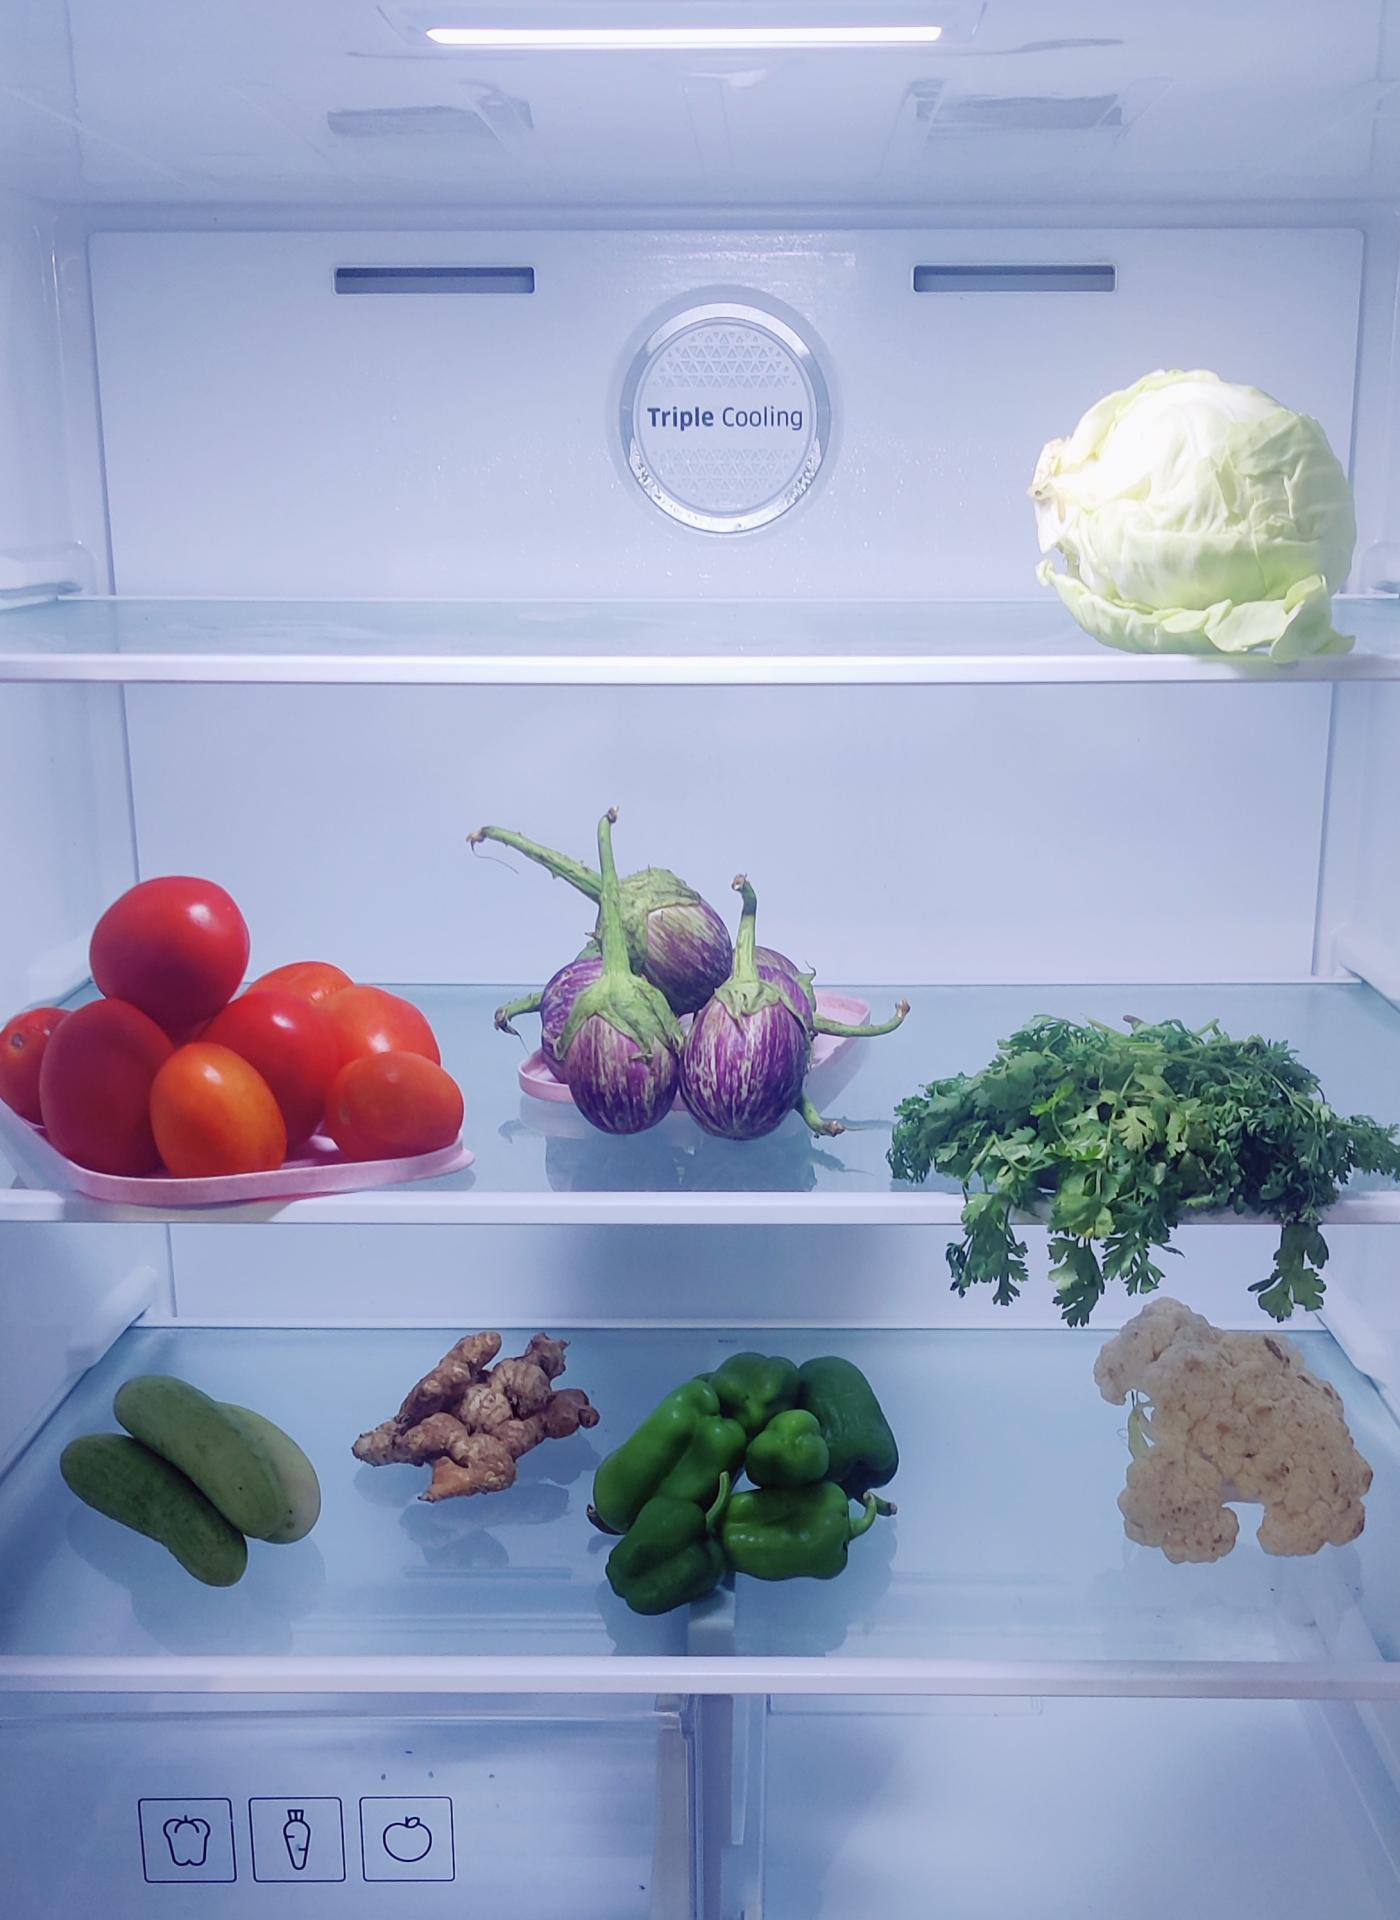cabbage: (1042, 368, 1340, 650)
capsicum: (601, 1358, 889, 1604)
cauliflower: (1094, 1292, 1367, 1555)
coriander: (896, 1014, 1369, 1245)
cucumber: (57, 1370, 321, 1582)
ginger: (355, 1321, 595, 1507)
tomato: (24, 880, 458, 1170)
